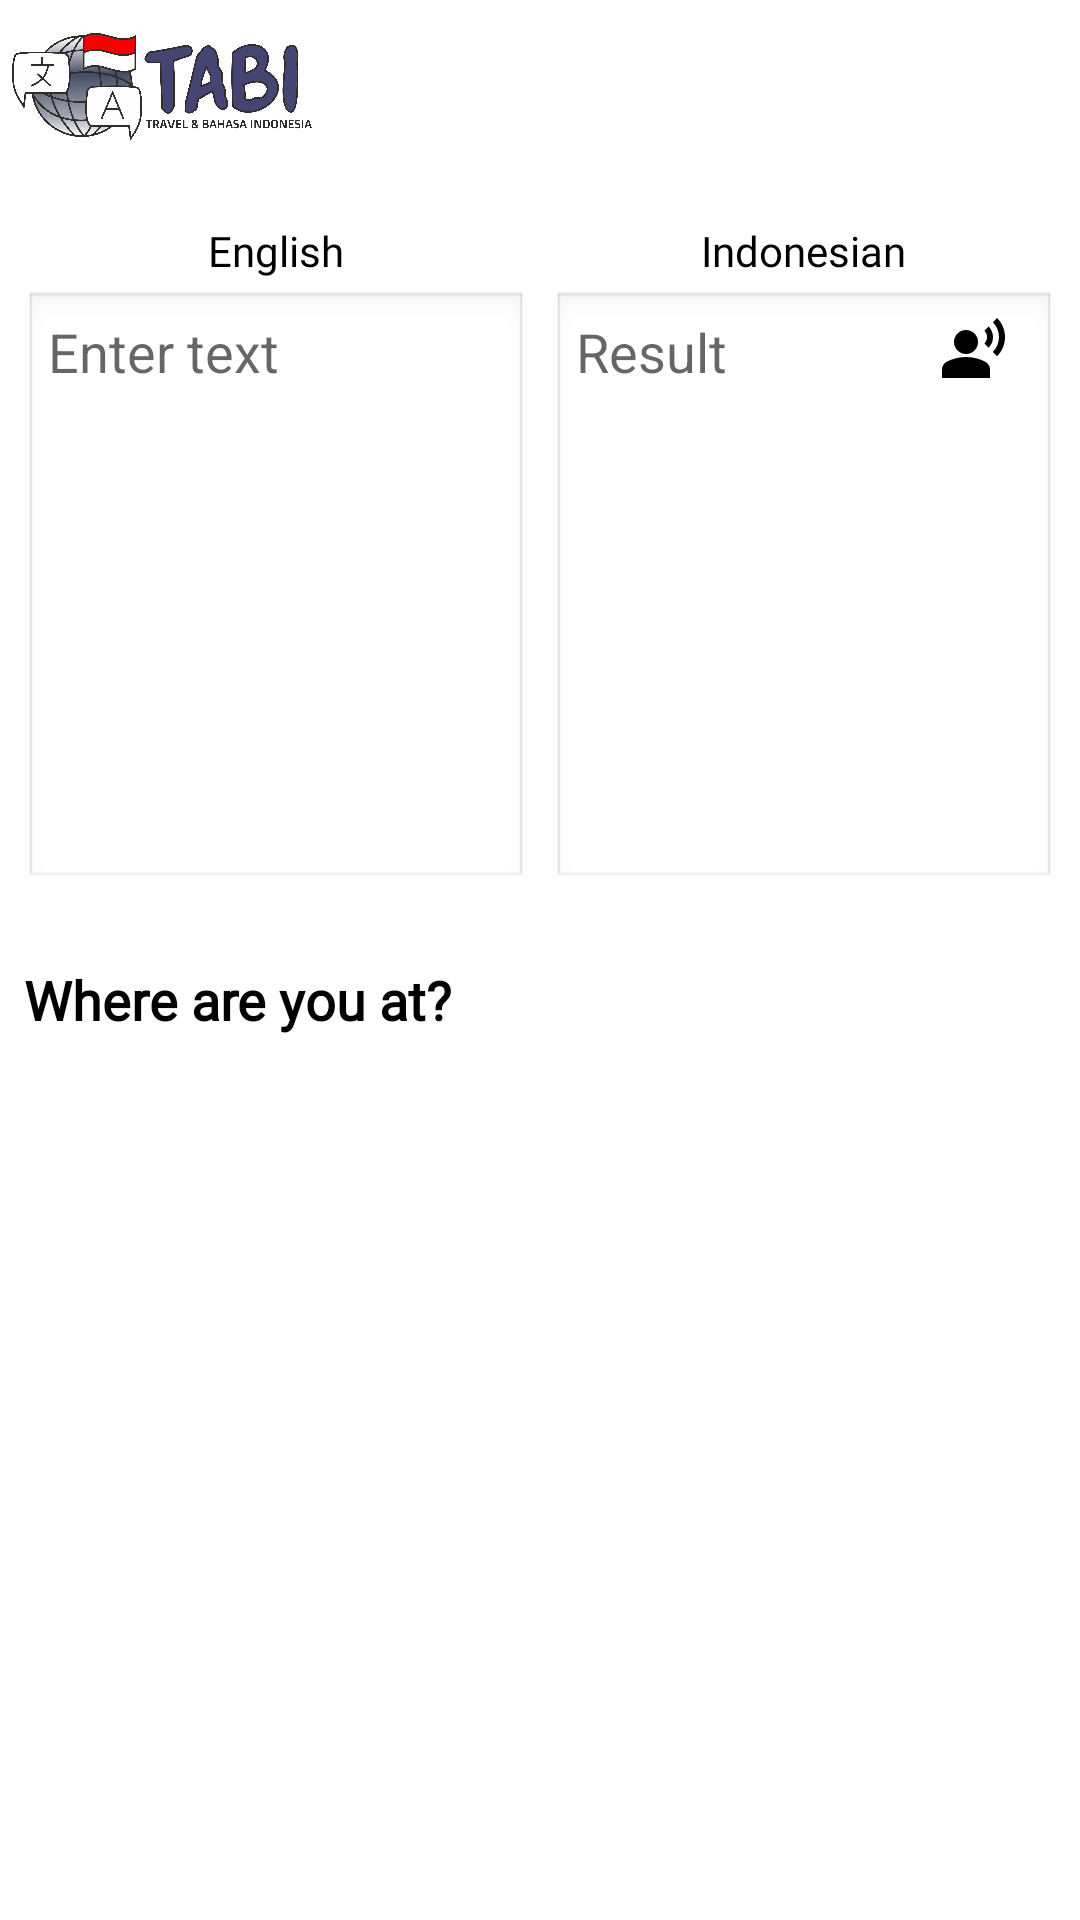

Screen size 1080px x 1920px. Icon name, then its box in pixels as (x1, y1, x2, y2):
Speaker icon: (942, 318, 1005, 378)
